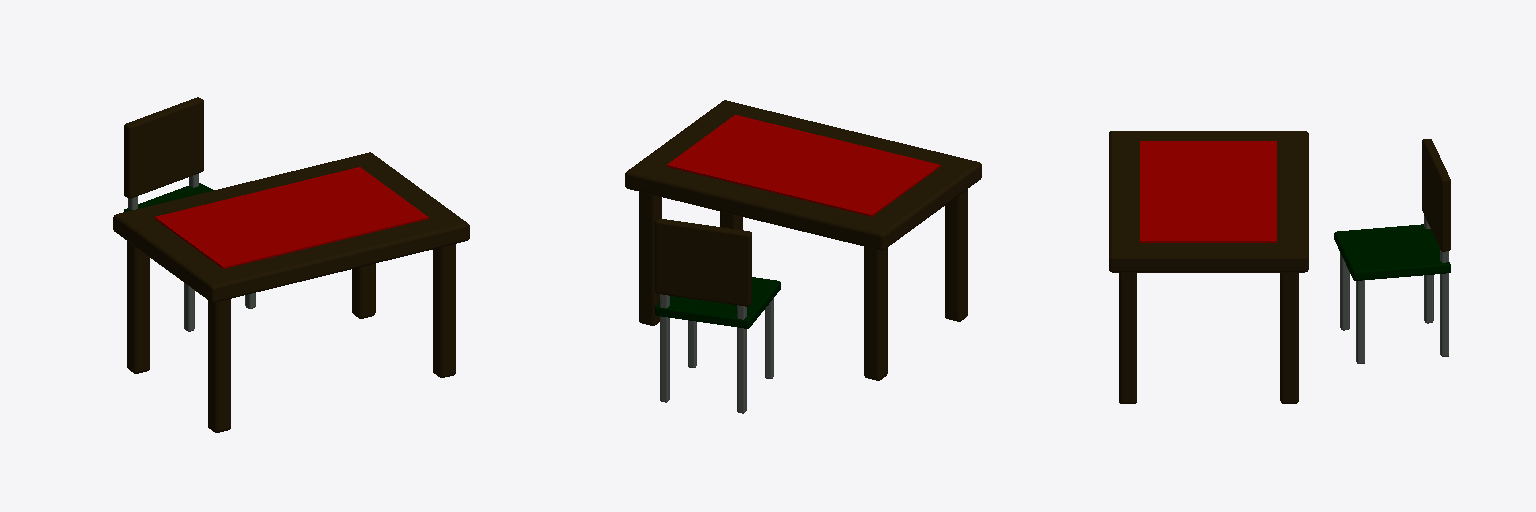
The model's file is DesuChair.obj.
3 views of the same model, side by side, from view 1: azimuth 30°, elevation 25°; view 2: azimuth 150°, elevation 25°; view 3: azimuth 270°, elevation 25° (orthographic).
Visible parts, largest first — view 1: Cube; view 2: Cube; view 3: Cube.
Boxes of the visible parts, x1,y1,x2,y2 form: Cube: [113, 97, 469, 432]; Cube: [625, 100, 981, 413]; Cube: [1109, 131, 1450, 403].
Size of the model in its own units: 5.99 by 4 by 6.85.